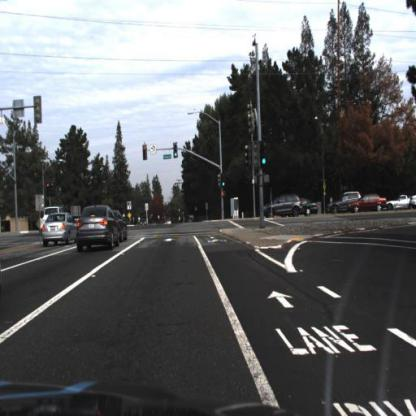car: (75, 203, 119, 259), (76, 203, 122, 254), (33, 211, 79, 252), (41, 211, 80, 248), (265, 191, 304, 221), (347, 190, 388, 216), (263, 194, 302, 218), (118, 199, 134, 249), (346, 195, 389, 212), (325, 190, 352, 217), (330, 193, 362, 214), (40, 199, 64, 223), (302, 199, 320, 220), (301, 199, 319, 217), (138, 212, 150, 232)
trafficLight-Green: (219, 168, 230, 189), (262, 144, 270, 169), (172, 141, 181, 161), (173, 150, 181, 163), (221, 179, 228, 193), (262, 155, 268, 168)
trafficLight-Red: (44, 179, 51, 197), (142, 144, 148, 159)
trafficLight-RedLeft: (44, 179, 52, 202), (144, 142, 150, 163)
